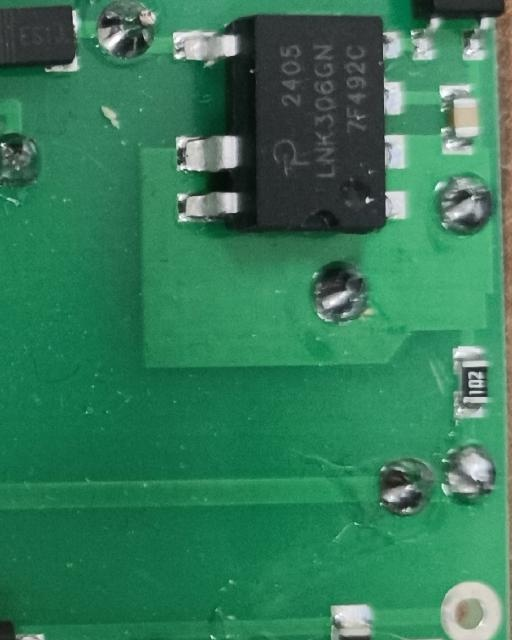chip-capacitor: (437, 83, 481, 156)
chip-resistor: (451, 344, 491, 423)
diode: (0, 5, 82, 76)
ic: (169, 13, 408, 235)
